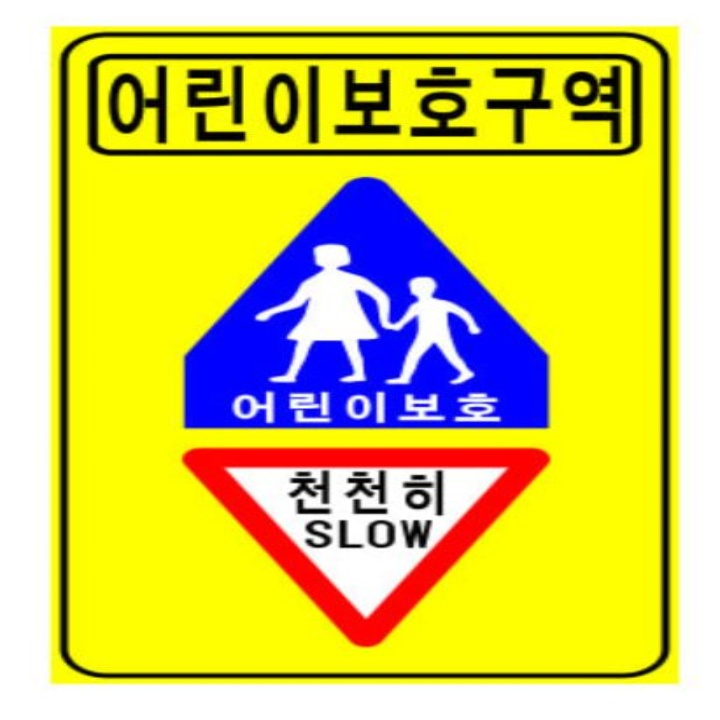child: (226, 235, 482, 391)
